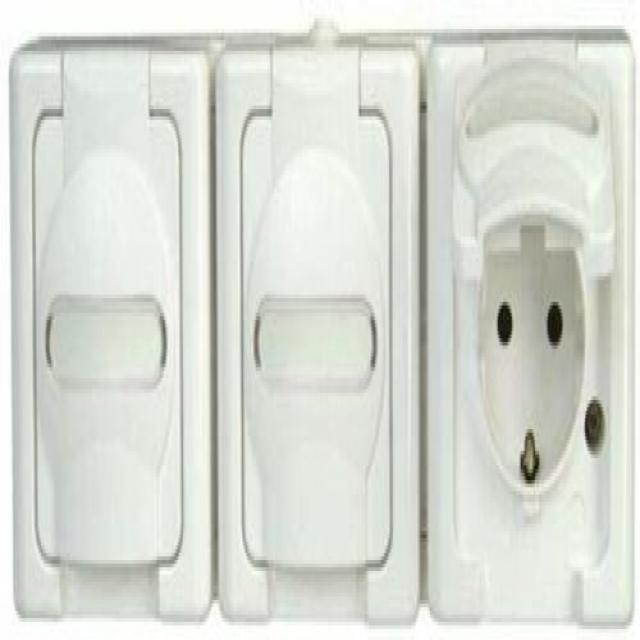typeb: (427, 5, 636, 640)
